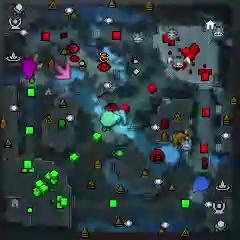p1: (192, 175, 210, 194)
p2: (100, 109, 120, 127)
p3: (21, 59, 37, 80)
x1: (55, 62, 71, 81)
x2: (30, 53, 43, 70)
x3: (115, 109, 127, 124)
x5: (172, 131, 188, 145)
